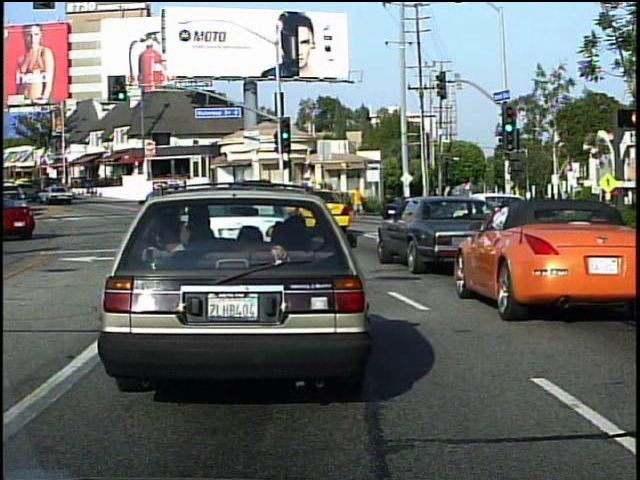person: (430, 185, 454, 230), (351, 184, 368, 220)
